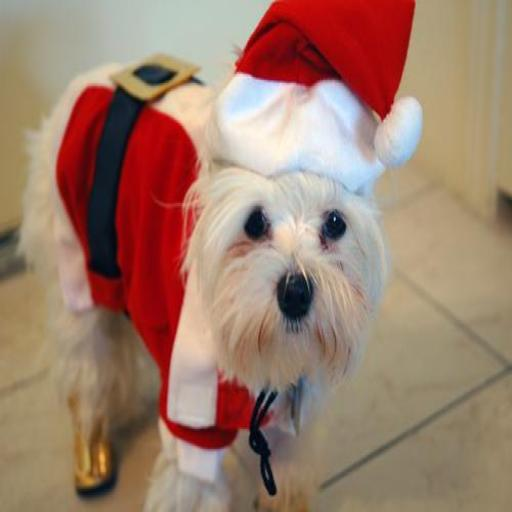dog_face: (190, 138, 391, 391)
